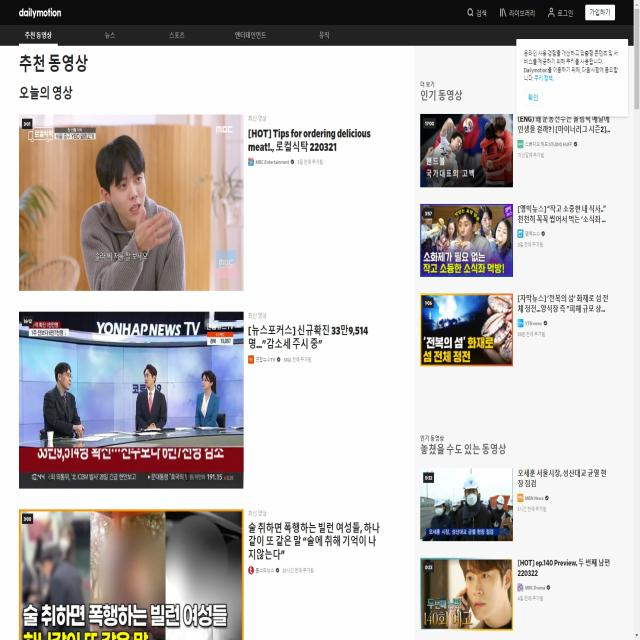menu-bar: (461, 1, 619, 23)
menu-panel: (17, 21, 337, 48)
